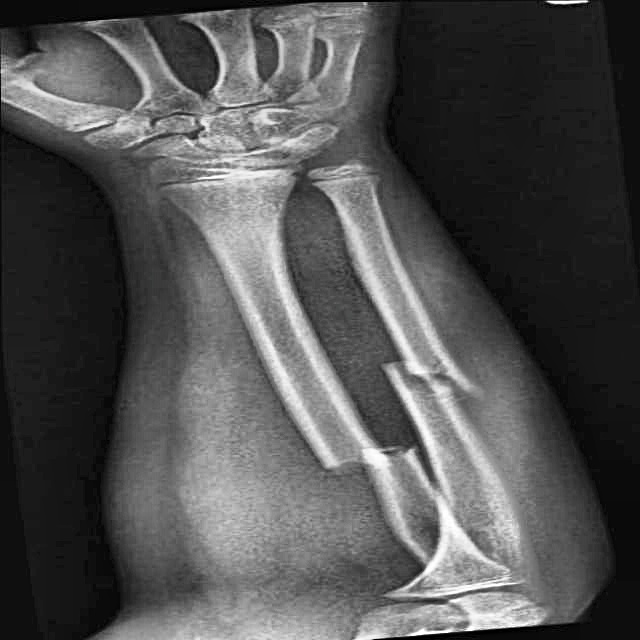Oblique Displaced: (353, 335, 513, 422)
Transverse: (286, 432, 446, 490)
